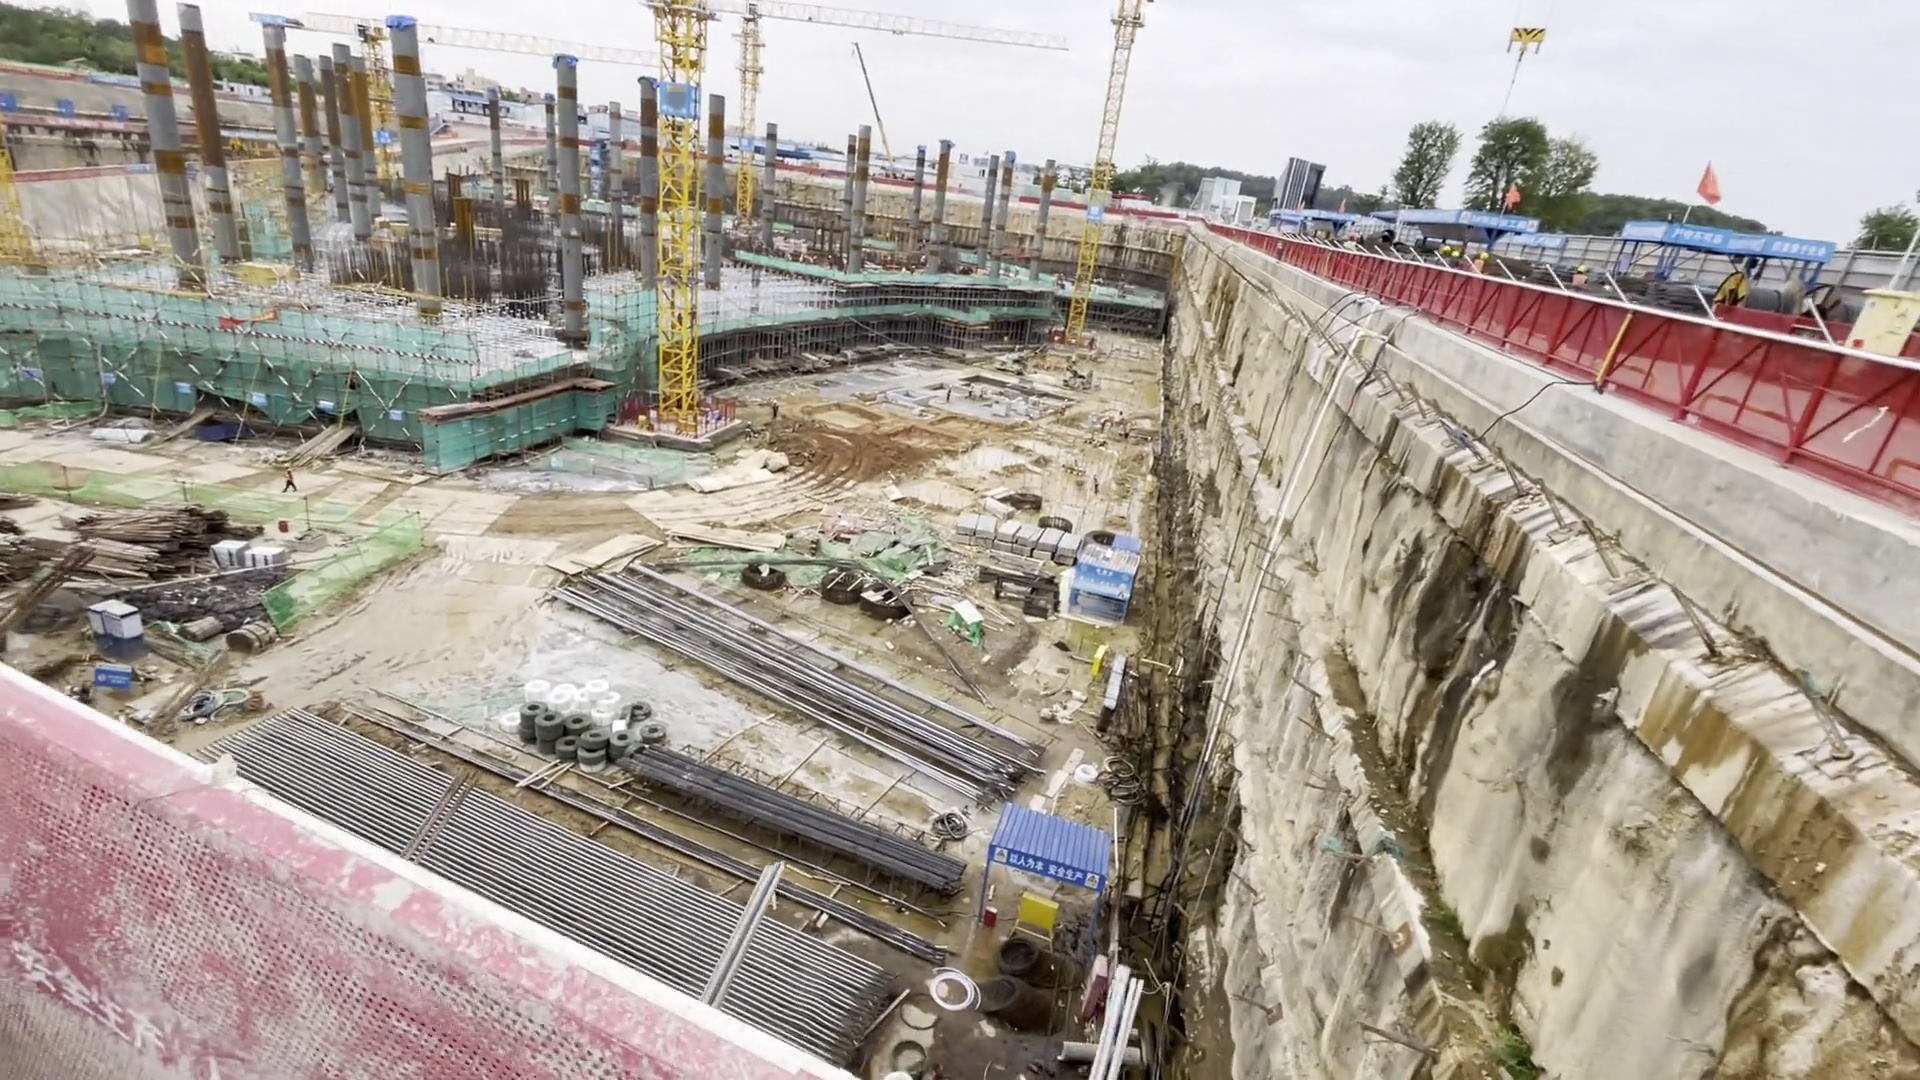brick: (963, 511, 1082, 559), (215, 531, 294, 585)
ebox: (671, 416, 700, 439)
fence: (47, 749, 590, 1080), (1483, 291, 1918, 489)
helmet: (1576, 264, 1589, 272), (1478, 251, 1491, 259), (1443, 245, 1452, 252), (1453, 251, 1461, 257), (282, 461, 291, 467)
hook: (1505, 24, 1546, 54)
hopper: (198, 422, 243, 440)
person: (1567, 263, 1593, 289), (279, 458, 295, 494), (768, 396, 785, 422), (742, 418, 755, 444), (942, 384, 954, 404)
rebar: (626, 733, 954, 880)
slogan: (9, 944, 181, 1049), (1, 91, 133, 121), (985, 848, 1101, 881), (1769, 239, 1846, 275), (1470, 200, 1535, 235), (1651, 220, 1723, 249)
vest: (1569, 272, 1589, 285), (284, 467, 294, 482)
wood: (81, 488, 210, 583)
